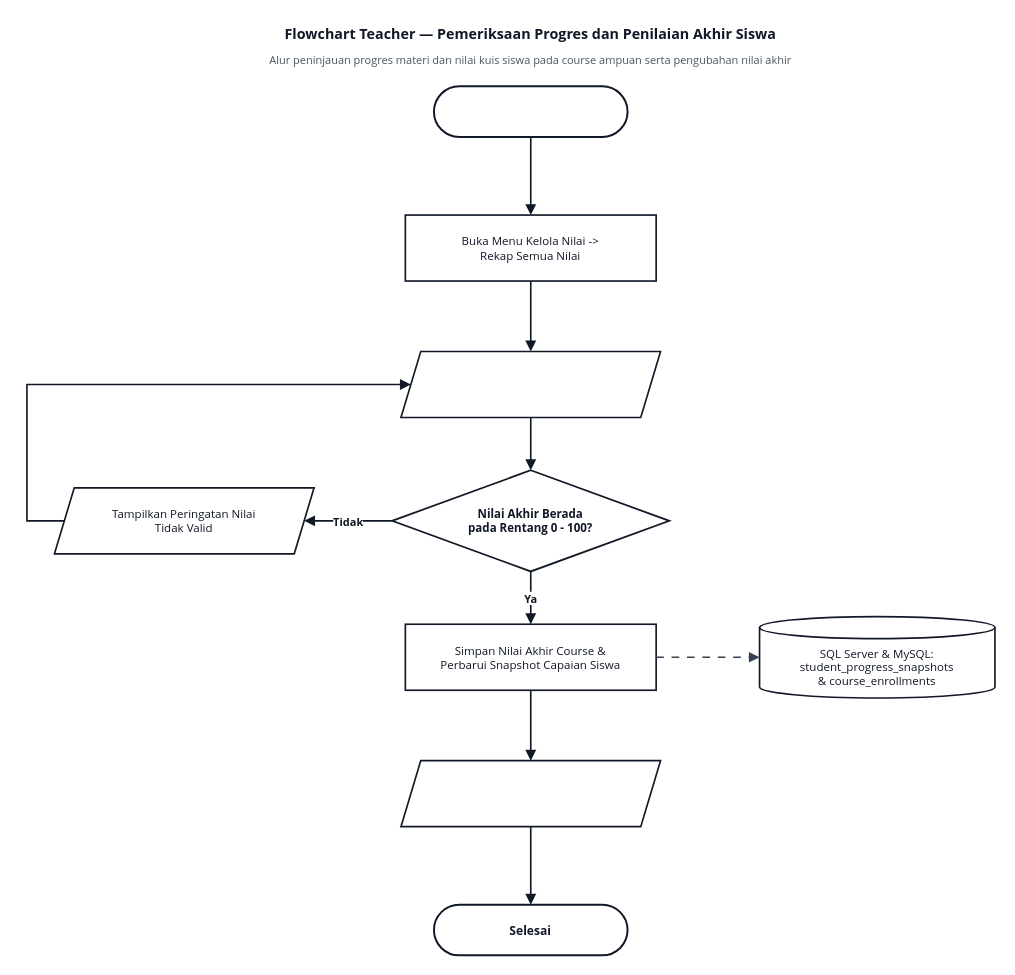
Image size: 1015x975. Some labels were removed from this diagram. Each missing label, with the box of its shape:
Filter Course Ampuan, Input Nilai Akhir Siswa, atau Klik Ekspor Excel: (400, 350, 661, 418)
Mulai: (432, 85, 628, 137)
Tampilkan Nilai Course Terbarui atau Unduh Laporan Excel/CSV: (400, 759, 661, 827)
